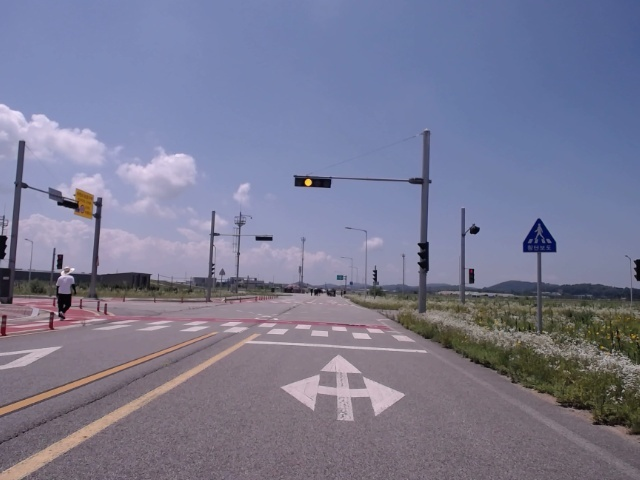orange_4: (296, 175, 331, 187)
